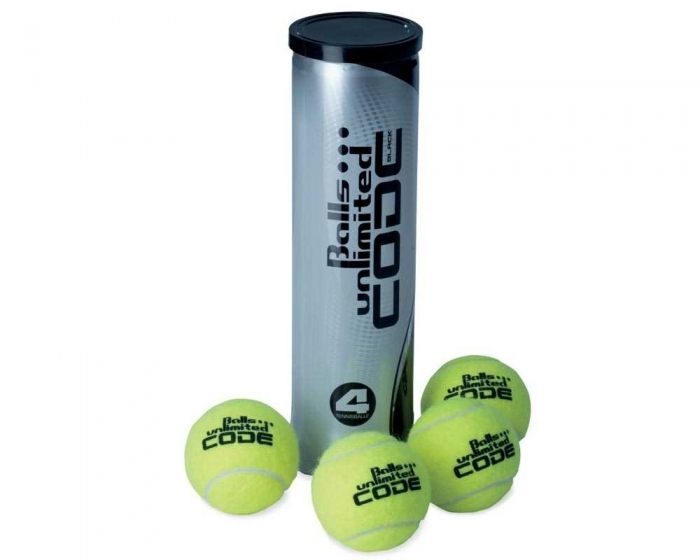tennis_ball: (183, 398, 303, 517), (314, 431, 431, 549), (406, 401, 521, 509), (423, 358, 534, 438)
